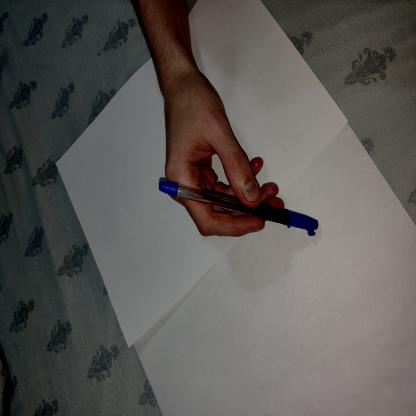pen: (154, 168, 334, 249)
